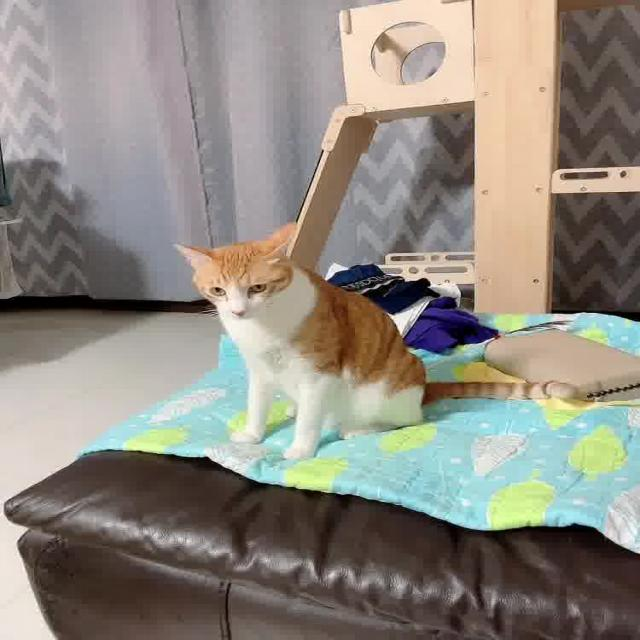cat: (122, 199, 474, 487)
